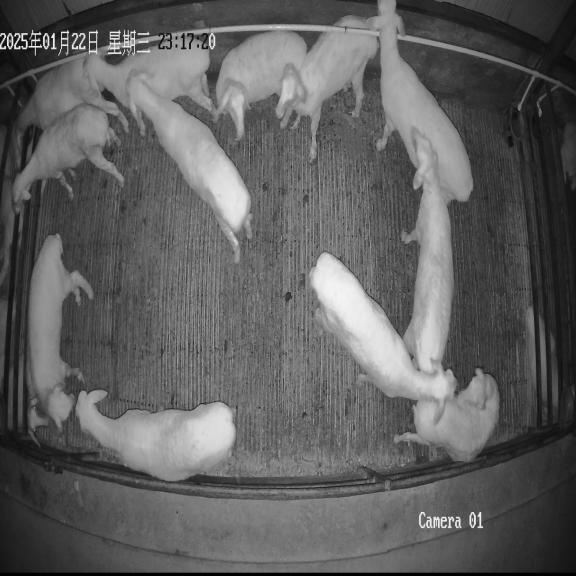drinking: (16, 57, 127, 134)
lying: (26, 342, 53, 447)
stand: (308, 252, 457, 413), (126, 72, 251, 262), (367, 0, 473, 201), (276, 15, 381, 162), (75, 390, 236, 481), (28, 234, 93, 430), (12, 103, 124, 214), (403, 128, 453, 373), (84, 34, 215, 116), (394, 367, 500, 461), (216, 31, 307, 140)
